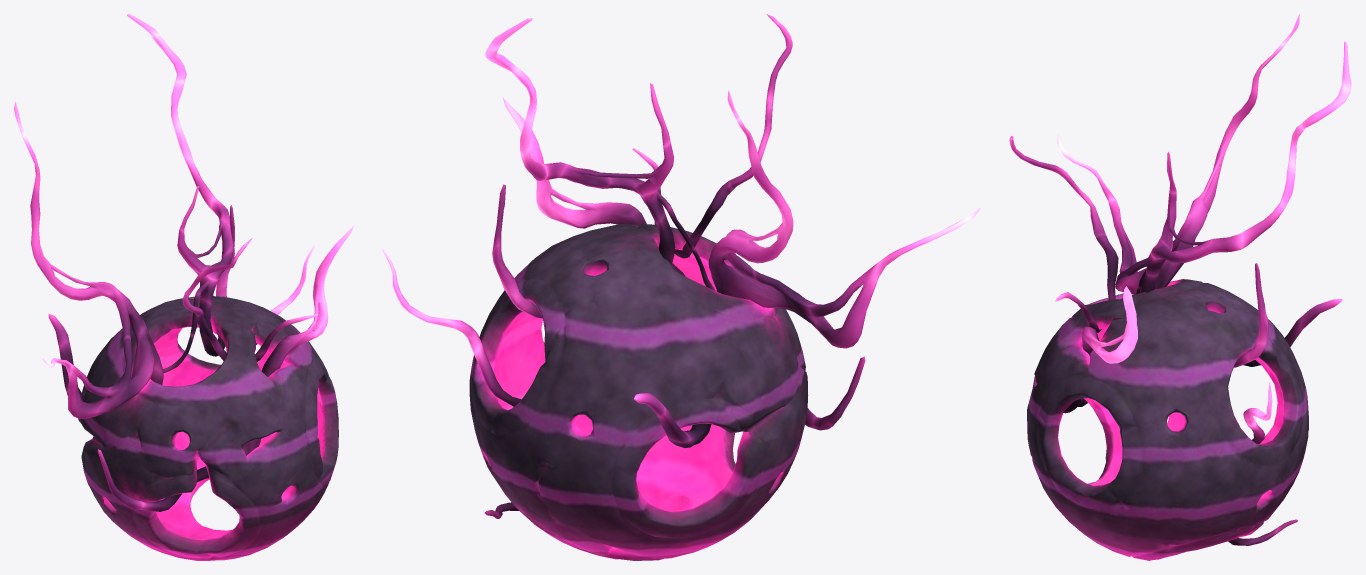
Rendered from caos_drs_chaospot_01a_chaos_v36.glb.
3 renders of one model, left to right at view 1: azimuth 30°, elevation 25°; view 2: azimuth 150°, elevation 25°; view 3: azimuth 270°, elevation 25°, orthographic. The views are drawn at different scales.
Visible parts, largest first — view 1: caos_drs_chaospot_01a; view 2: caos_drs_chaospot_01a; view 3: caos_drs_chaospot_01a.
Boxes of the visible parts, box(x1,y1,x2,y2) form: caos_drs_chaospot_01a: box(14, 14, 353, 560); caos_drs_chaospot_01a: box(382, 14, 980, 560); caos_drs_chaospot_01a: box(1009, 14, 1351, 560).
Size of the model in its own units: 2.37 by 2.89 by 1.77.
2 materials, 2 textured.
